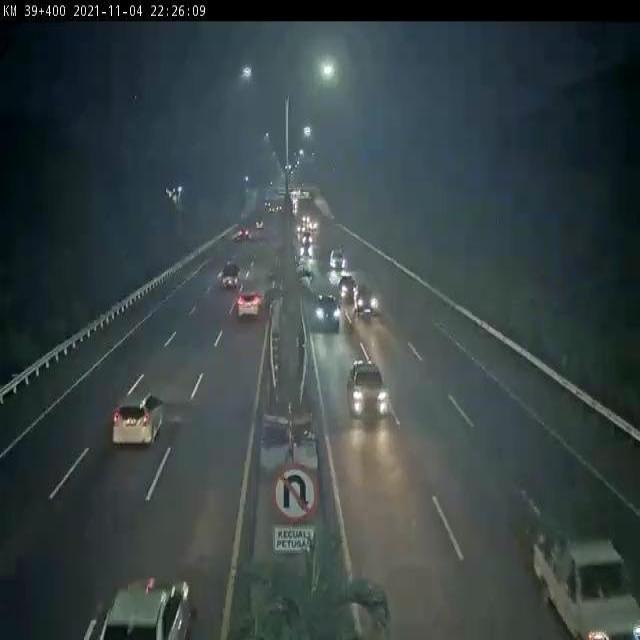Car: (99, 570, 194, 640), (111, 393, 165, 444), (346, 359, 390, 420), (353, 282, 378, 316), (236, 291, 264, 320), (338, 274, 361, 300), (328, 248, 349, 268), (301, 231, 313, 246)
Truck: (529, 525, 640, 640), (221, 261, 242, 288)
